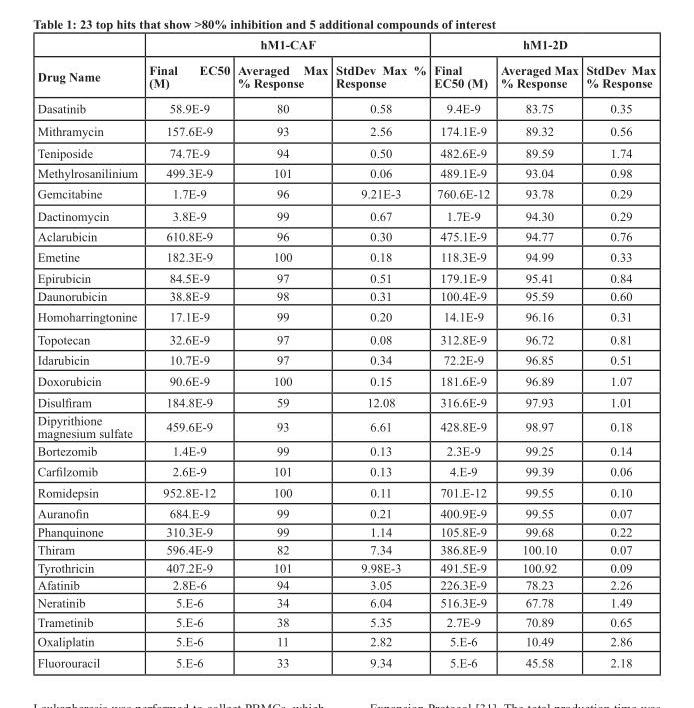table: (36, 36, 655, 669)
table column: (36, 36, 142, 669), (233, 36, 331, 669), (331, 36, 429, 669), (142, 36, 233, 669), (494, 36, 581, 669), (581, 36, 655, 669), (429, 36, 494, 669)
table column header: (36, 36, 655, 95)
table row: (36, 56, 655, 95), (36, 411, 655, 441), (36, 95, 655, 119), (36, 119, 655, 141), (36, 327, 655, 349), (36, 141, 655, 162), (36, 162, 655, 183), (36, 183, 655, 204), (36, 204, 655, 225), (36, 225, 655, 246), (36, 246, 655, 267), (36, 306, 655, 327), (36, 349, 655, 370), (36, 370, 655, 391), (36, 460, 655, 481), (36, 481, 655, 502), (36, 36, 655, 56), (36, 286, 655, 306), (36, 391, 655, 411), (36, 502, 655, 522), (36, 611, 655, 631), (36, 631, 655, 651), (36, 267, 655, 286), (36, 441, 655, 460), (36, 522, 655, 540), (36, 540, 655, 558), (36, 575, 655, 593), (36, 593, 655, 611), (36, 651, 655, 669), (36, 558, 655, 575)
table spanning cell: (36, 36, 142, 95), (142, 36, 429, 56), (429, 36, 655, 56)
